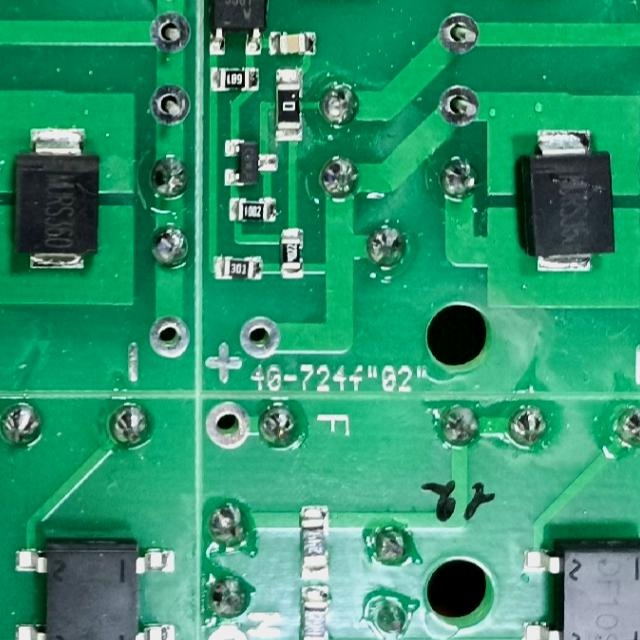chip-capacitor: (267, 31, 317, 57)
chip-resistor: (295, 505, 329, 583), (272, 66, 304, 144), (296, 585, 332, 640), (206, 66, 262, 94), (277, 227, 304, 281), (226, 197, 278, 224), (211, 255, 264, 281)
diode: (516, 128, 616, 275), (11, 125, 100, 271)
ic: (10, 537, 178, 640), (517, 536, 640, 640)
transistor: (221, 137, 279, 187)
